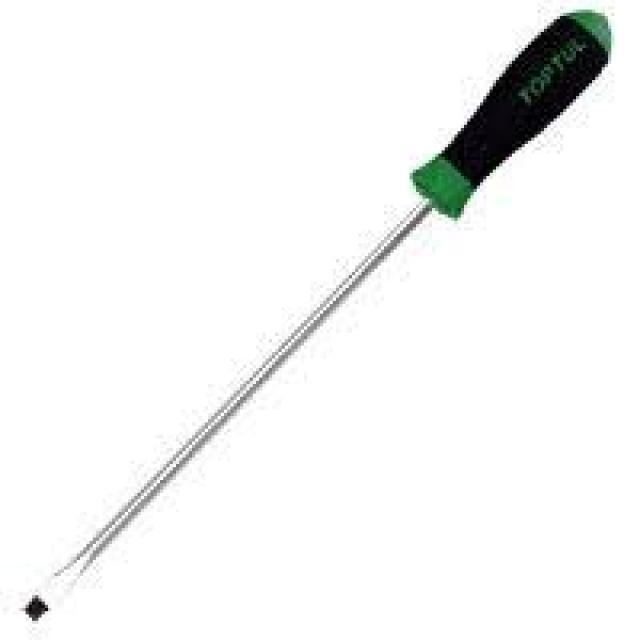screwdriver: (14, 6, 620, 628)
